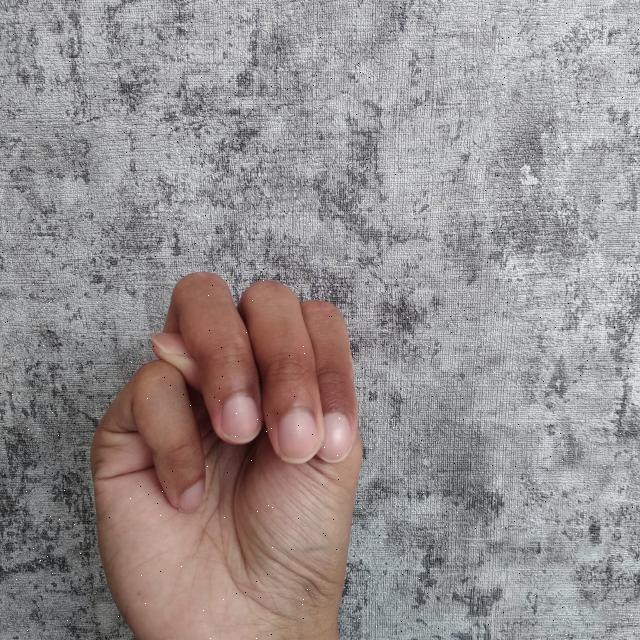M: (87, 265, 369, 640)
